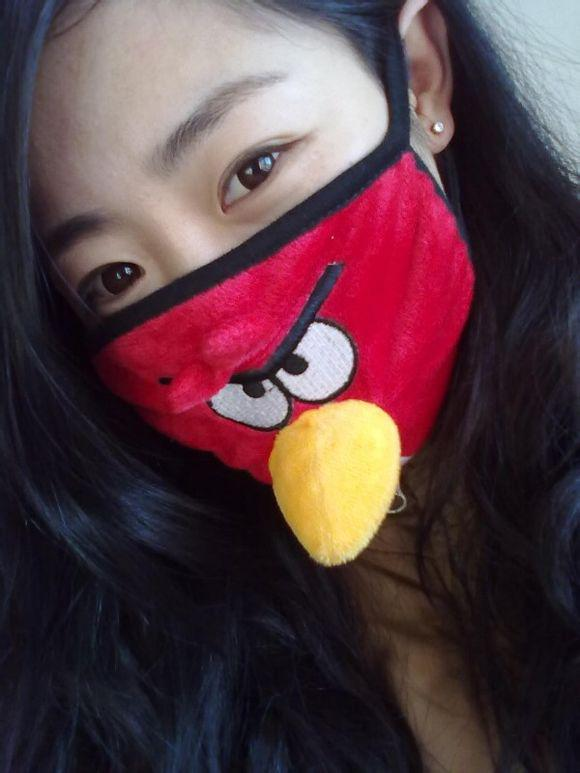OK: (53, 97, 438, 482)
